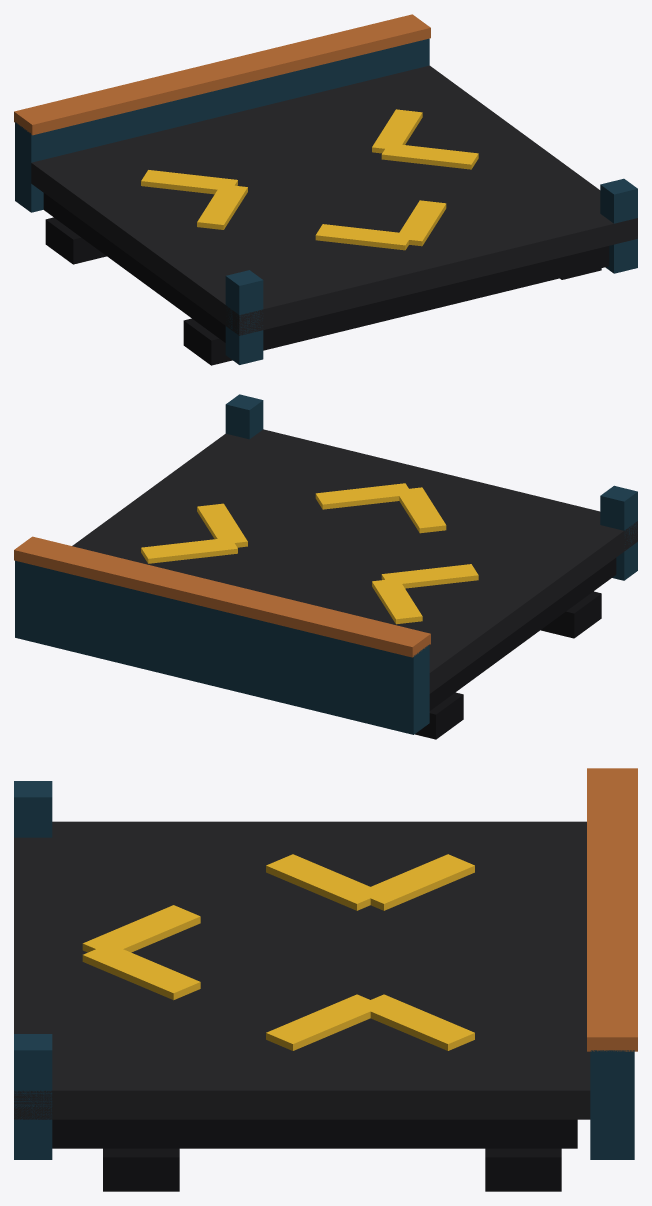
The model's file is belt_sides.obj.
The picture shows the model from 3 angles, top to bottom: view 1: azimuth 30°, elevation 25°; view 2: azimuth 150°, elevation 25°; view 3: azimuth 270°, elevation 25°; orthographic projection. The views are drawn at different scales.
Visible parts, largest first — view 1: Belt, Frame, Arrows; view 2: Belt, Frame, Arrows; view 3: Belt, Frame, Arrows.
Part boxes in pixels (<box>): Belt: <box>31,65,637,350</box>; Frame: <box>14,14,637,365</box>; Arrows: <box>141,109,478,250</box>; Belt: <box>72,429,637,710</box>; Frame: <box>14,394,637,739</box>; Arrows: <box>141,483,478,624</box>; Belt: <box>14,821,590,1148</box>; Frame: <box>14,768,637,1191</box>; Arrows: <box>82,854,474,1050</box>.
Size of the model in its own units: 1 by 0.2725 by 0.98.
